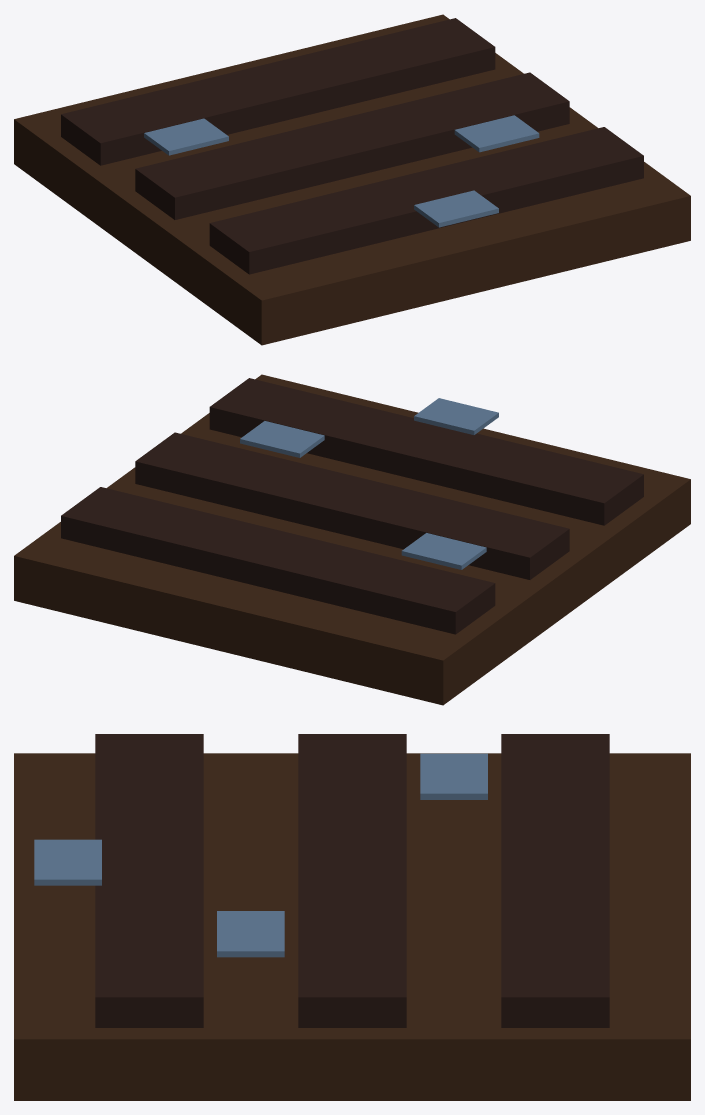
The model's file is soil_watered.glb.
3 renders of one model, top to bottom at view 1: azimuth 30°, elevation 25°; view 2: azimuth 150°, elevation 25°; view 3: azimuth 270°, elevation 25°, orthographic. The views are drawn at different scales.
Visible parts, largest first — view 1: body; view 2: body; view 3: body.
Boxes of the visible parts, <box> form: body: <box>14,14,690,345</box>; body: <box>14,374,690,705</box>; body: <box>14,734,690,1100</box>.
Bounding box in the file's own units: 1 × 0.16 × 1.
